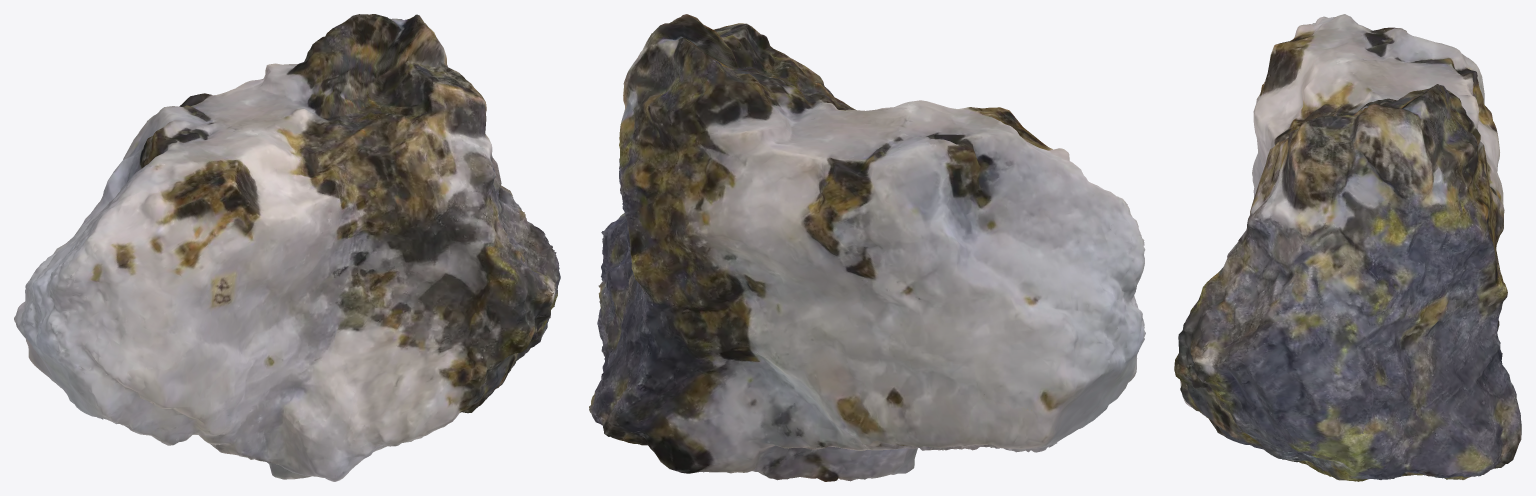
Rendered from galena_pbs.glb.
3 renders of one model, left to right at view 1: azimuth 30°, elevation 25°; view 2: azimuth 150°, elevation 25°; view 3: azimuth 270°, elevation 25°, orthographic. The views are drawn at different scales.
Parts seen in each view (by area): view 1: Object_2; view 2: Object_2; view 3: Object_2.
Boxes of the visible parts, x1=… form: Object_2: x1=14, y1=14, x2=560, y2=481; Object_2: x1=589, y1=14, x2=1145, y2=481; Object_2: x1=1174, y1=14, x2=1521, y2=481.
Bounding box in the file's own units: 1.73 × 1.31 × 1.01.
1 material, 1 textured.
